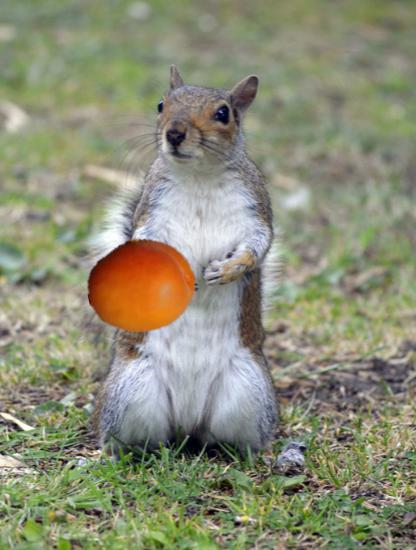Apricot: (87, 231, 196, 340)
